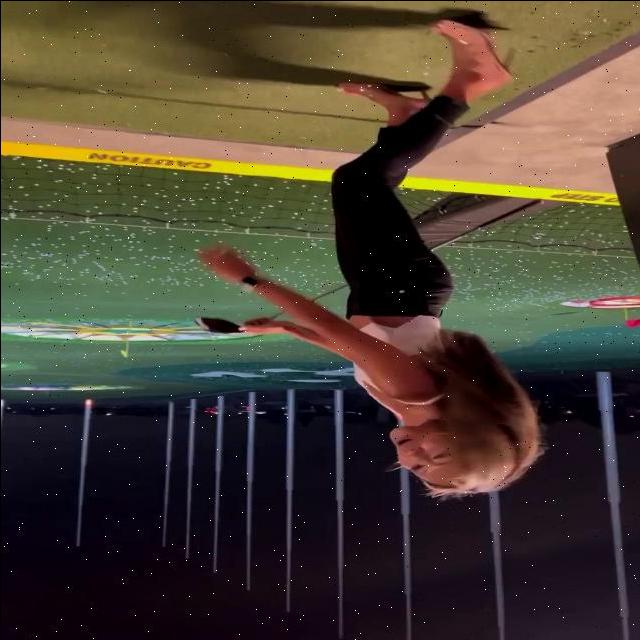golf club-handle: (186, 195, 545, 335)
golf club-head: (192, 314, 245, 333)
